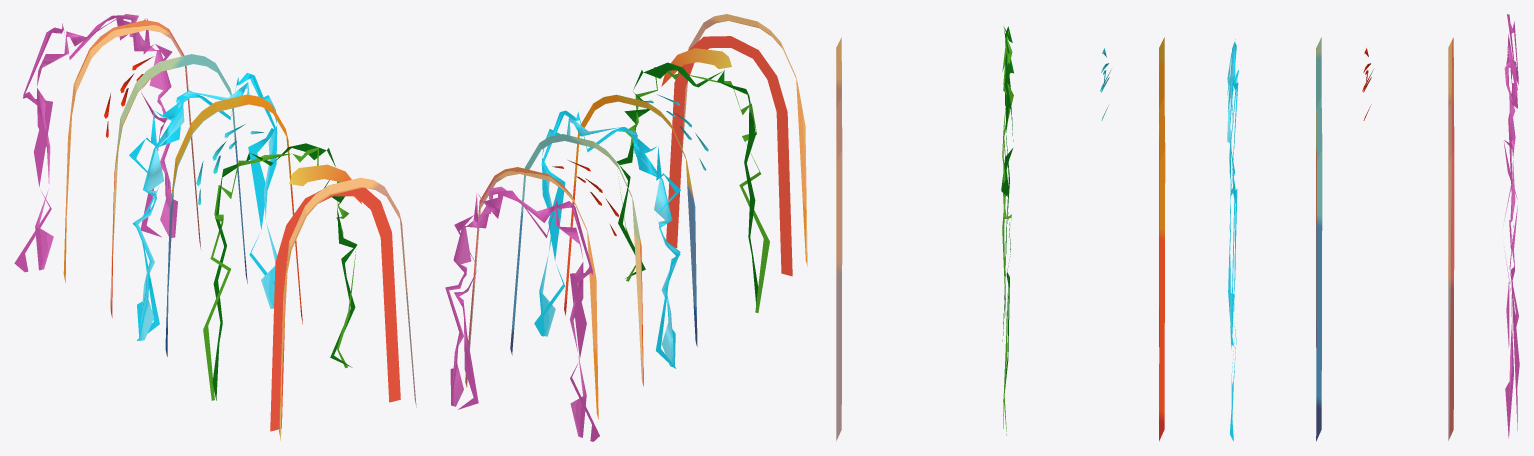
File: tunel-004.gltf
3 views of the same model, side by side, from view 1: azimuth 30°, elevation 25°; view 2: azimuth 150°, elevation 25°; view 3: azimuth 270°, elevation 25° (orthographic). The views are drawn at different scales.
Visible parts, largest first — view 1: Tunel-Electrico-f.004; view 2: Tunel-Electrico-f.004; view 3: Tunel-Electrico-f.004.
Boxes of the visible parts, bbox=[...] form: Tunel-Electrico-f.004: bbox=[14, 14, 416, 440]; Tunel-Electrico-f.004: bbox=[445, 14, 807, 441]; Tunel-Electrico-f.004: bbox=[836, 14, 1519, 441].
Size of the model in its own units: 3.54 by 4.87 by 8.7.
1 material, 1 textured.
